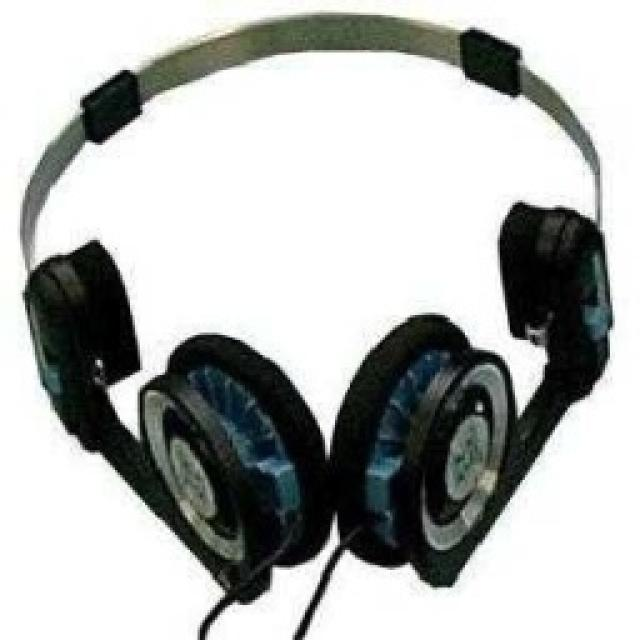kulaklik: (21, 17, 625, 640)
